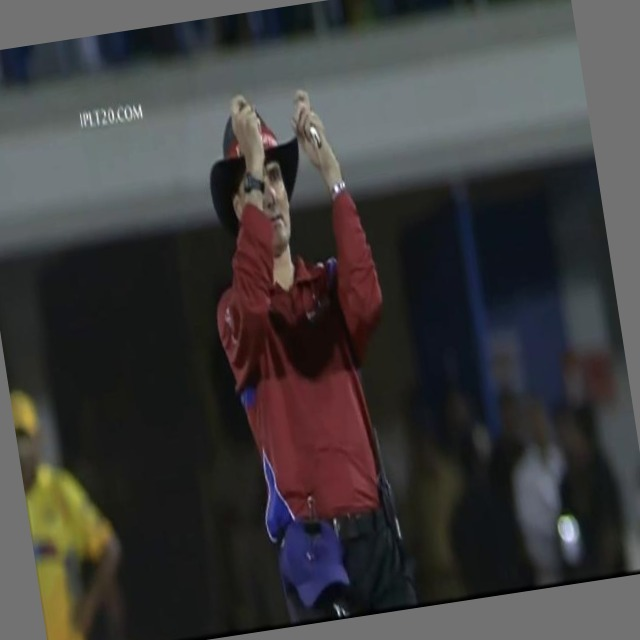Six: (172, 62, 447, 633)
